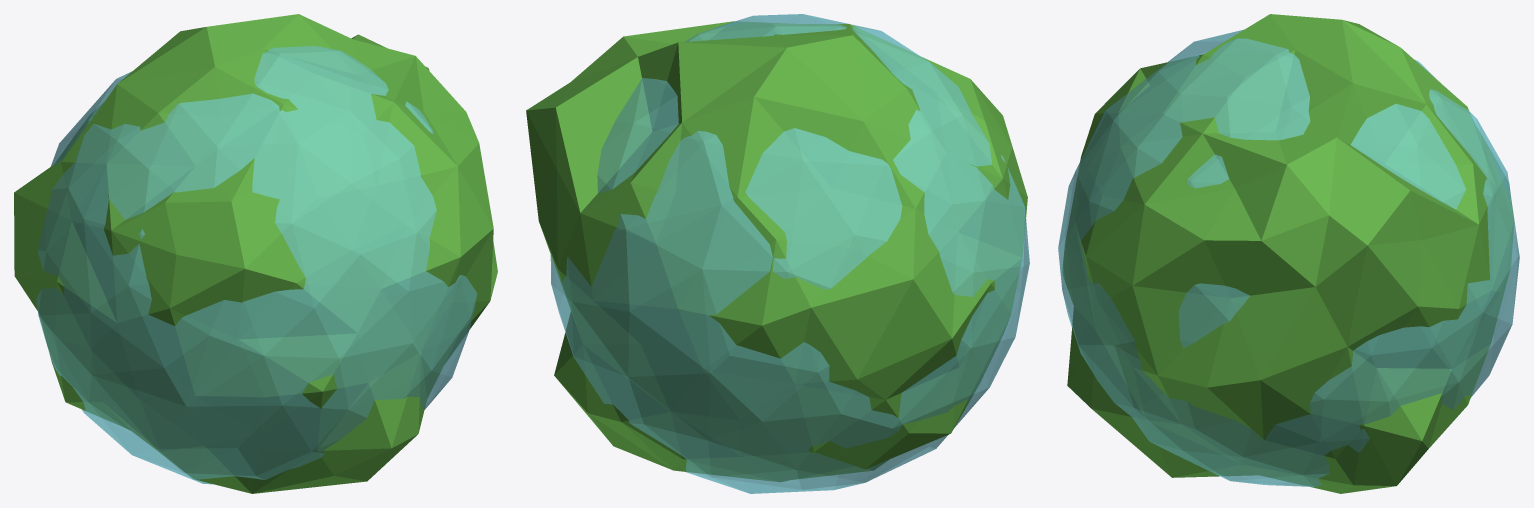
Rendered from earth_like_planet.fbx.
The picture shows the model from 3 angles, left to right: view 1: azimuth 30°, elevation 25°; view 2: azimuth 150°, elevation 25°; view 3: azimuth 270°, elevation 25°; orthographic projection. The views are drawn at different scales.
Parts seen in each view (by area): view 1: earth_like_planet; view 2: earth_like_planet; view 3: earth_like_planet.
Part boxes in pixels (x1,y1,x2,y2): earth_like_planet: [14, 14, 497, 493]; earth_like_planet: [526, 14, 1029, 493]; earth_like_planet: [1058, 14, 1519, 493].
Bounding box in the file's own units: 213 × 206 × 199.
